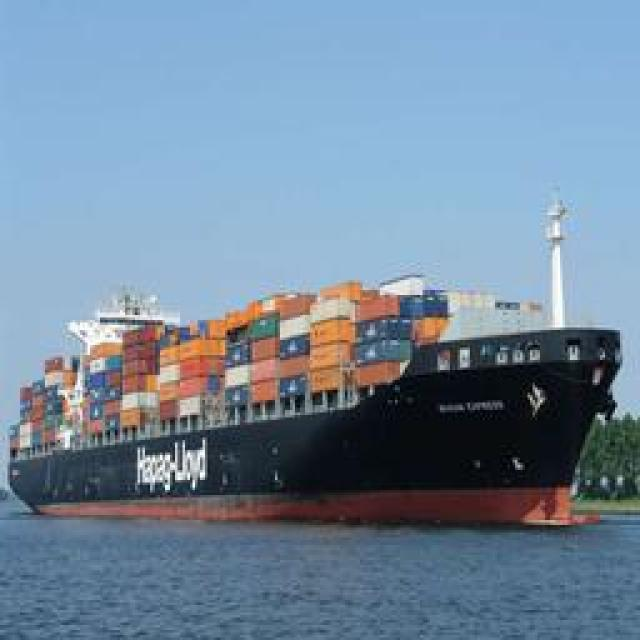CIV_Ship: (0, 236, 620, 512)
